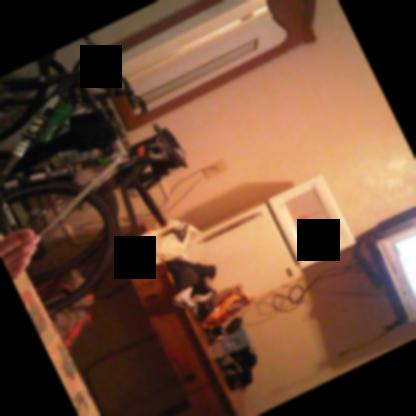backpack: (35, 265, 94, 352)
